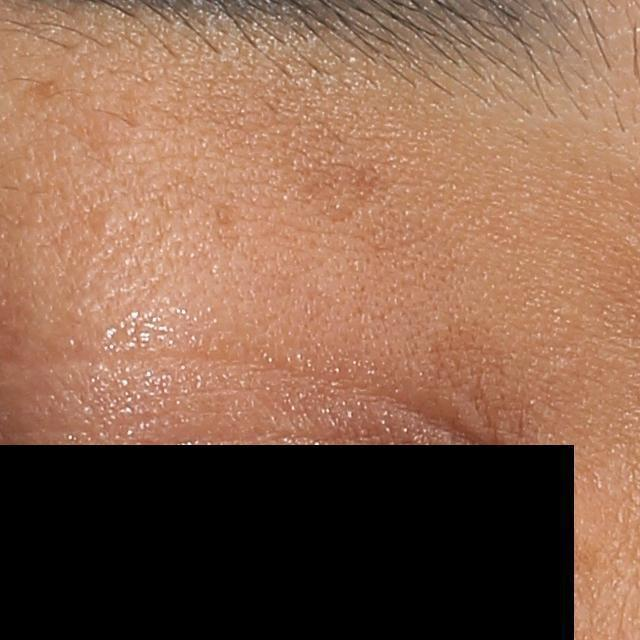comedo: (90, 205, 124, 238)
